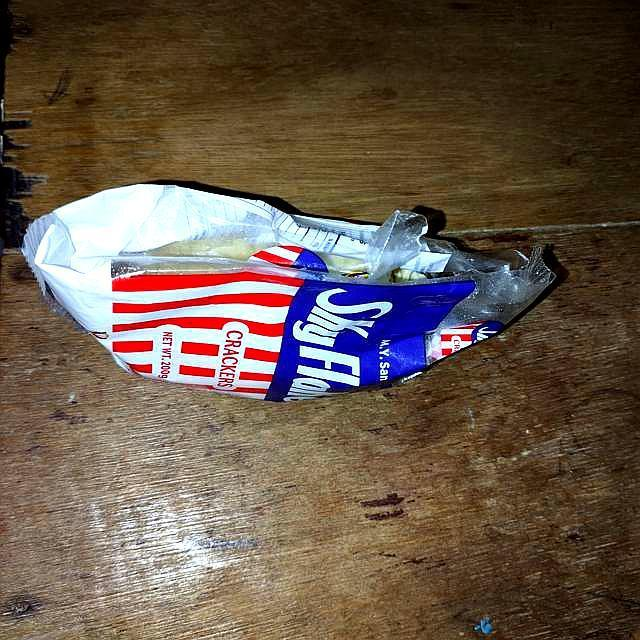Non-biodegradable: (21, 181, 559, 405)
